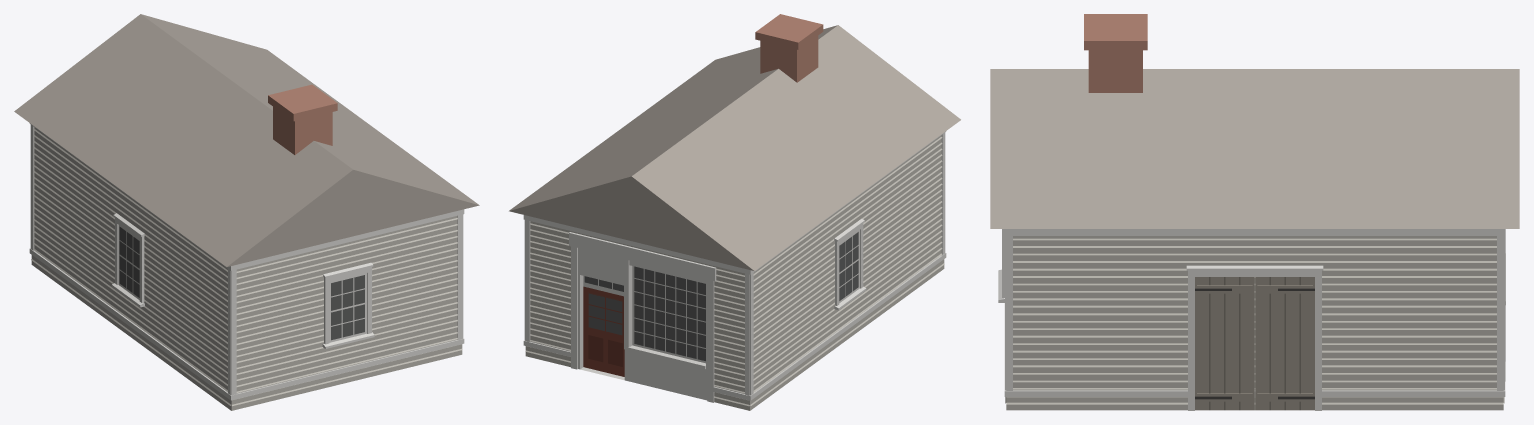
File: recon_1835_core_c1_015__inferred_1835.glb
3 renders of one model, left to right at view 1: azimuth 30°, elevation 25°; view 2: azimuth 150°, elevation 25°; view 3: azimuth 270°, elevation 25°, orthographic. The views are drawn at different scales.
Visible parts, largest first — view 1: recon_1835_core_c1_015__inferred_1835; view 2: recon_1835_core_c1_015__inferred_1835; view 3: recon_1835_core_c1_015__inferred_1835.
Part boxes in pixels (x1,y1,x2,y2): recon_1835_core_c1_015__inferred_1835: (14, 14, 479, 410); recon_1835_core_c1_015__inferred_1835: (509, 14, 960, 410); recon_1835_core_c1_015__inferred_1835: (990, 14, 1519, 410).
Bounding box in the file's own units: 5.61 × 5.33 × 8.17.
